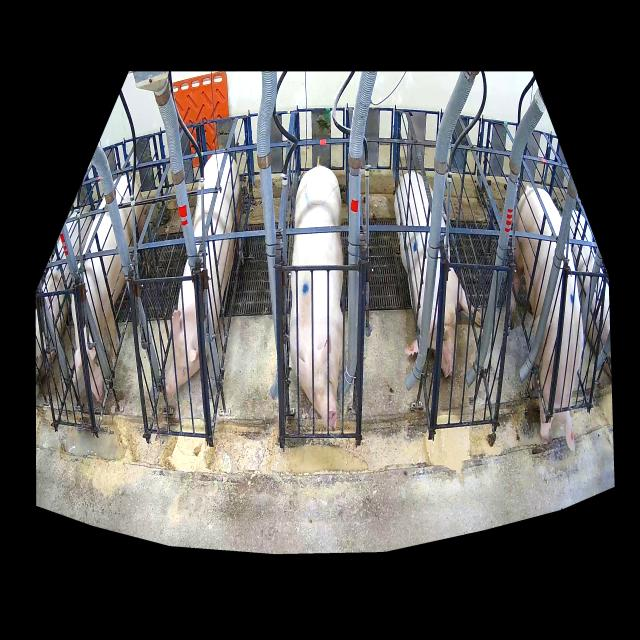pig: (510, 188, 583, 452), (166, 153, 243, 399), (395, 172, 481, 378), (72, 175, 150, 401), (290, 166, 344, 431)
